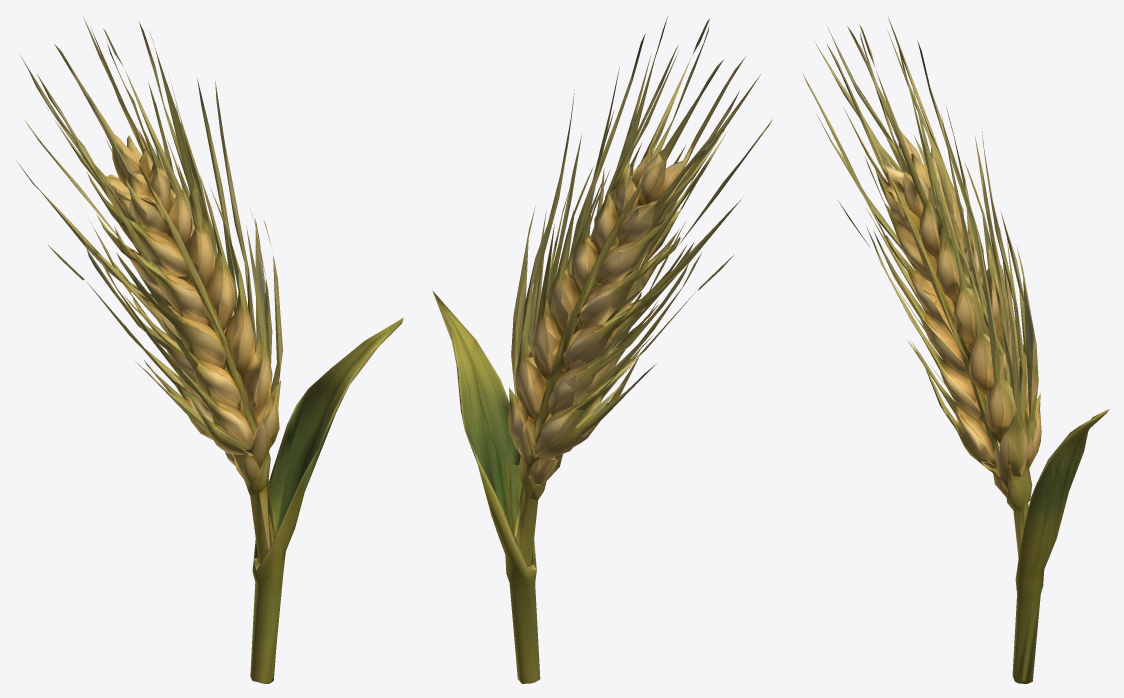
Rendered from wheat-crop-c073.glb.
3 views of the same model, side by side, from view 1: azimuth 30°, elevation 25°; view 2: azimuth 150°, elevation 25°; view 3: azimuth 330°, elevation 25° (orthographic). The views are drawn at different scales.
Parts seen in each view (by area): view 1: Mesh_0; view 2: Mesh_0; view 3: Mesh_0.
Part boxes in pixels (bbox=[...]): Mesh_0: bbox=[17, 15, 403, 683]; Mesh_0: bbox=[432, 16, 772, 683]; Mesh_0: bbox=[802, 17, 1109, 683].
Size of the model in its own units: 0.1622 by 0.3 by 0.0347.
1 material, 1 textured.
